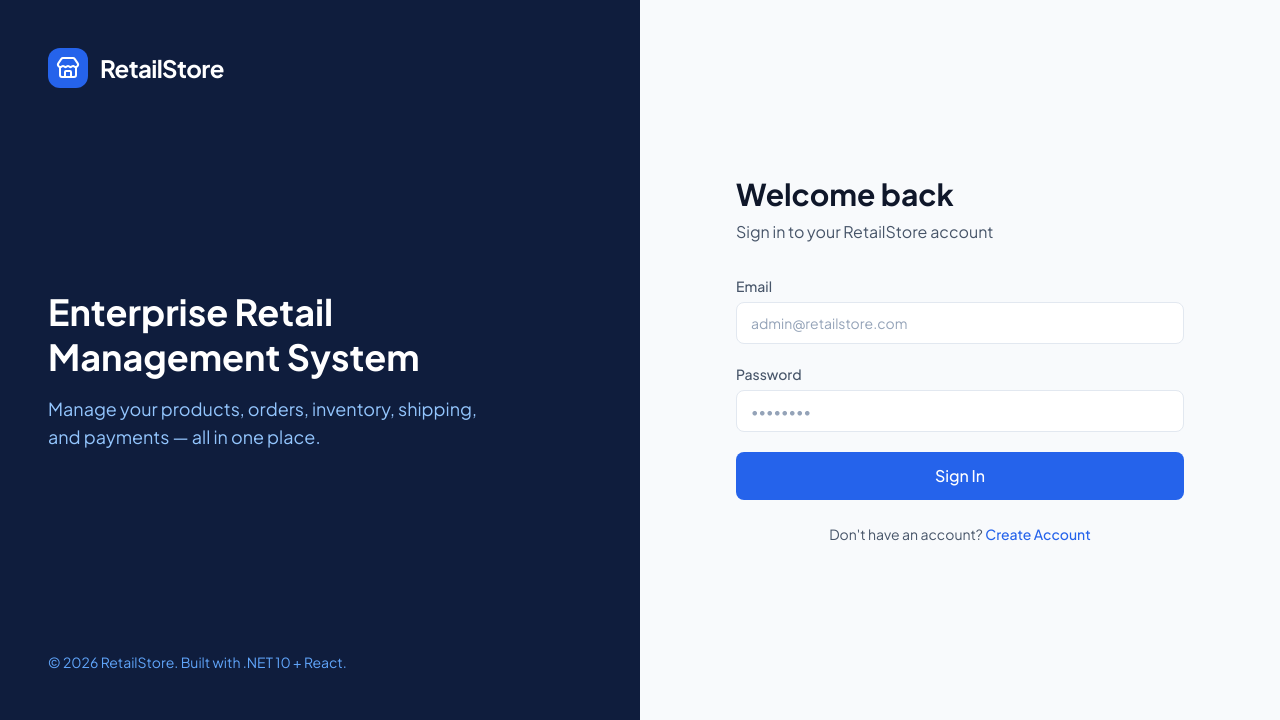
Login workflow › custom server error shows the error message in an alert
Type "testuser@example.com" into the field.
click(960, 323); type("testuser@example.com")  # box [736, 302, 1184, 344]
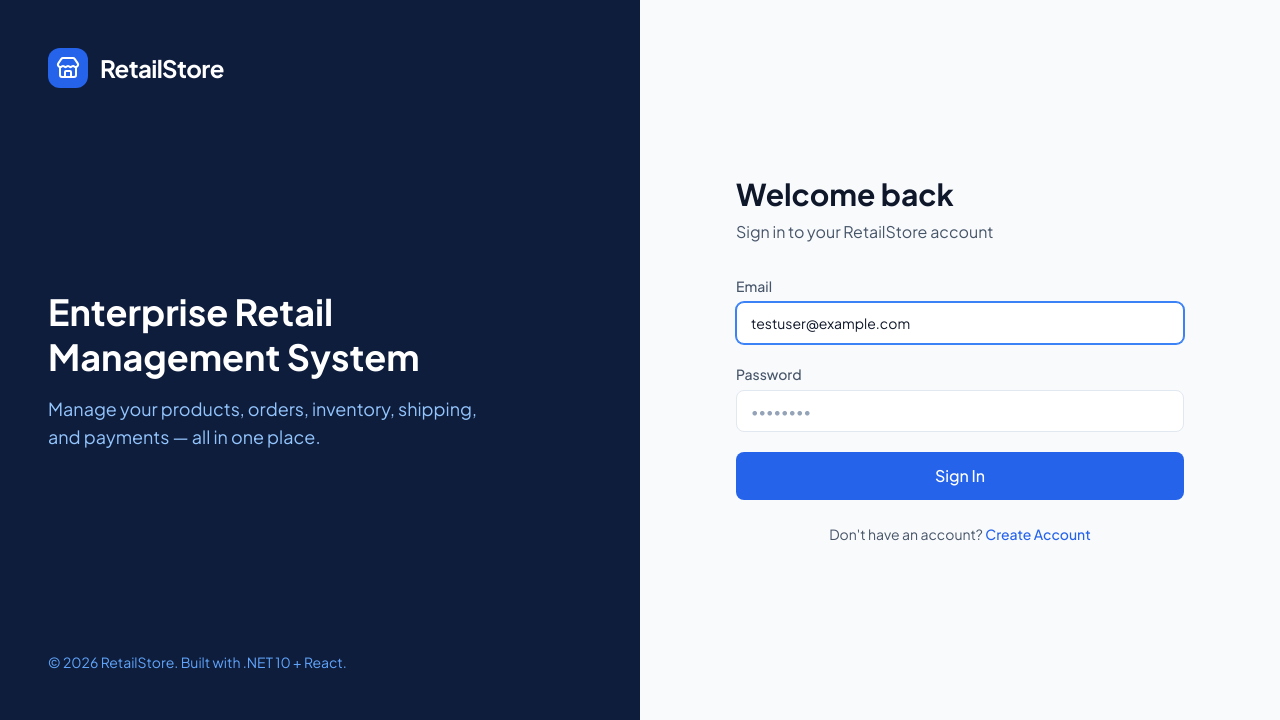
Type "Password123!" into the password field labelled "Password".
click(960, 411); type("Password123!")  # box [736, 390, 1184, 432]
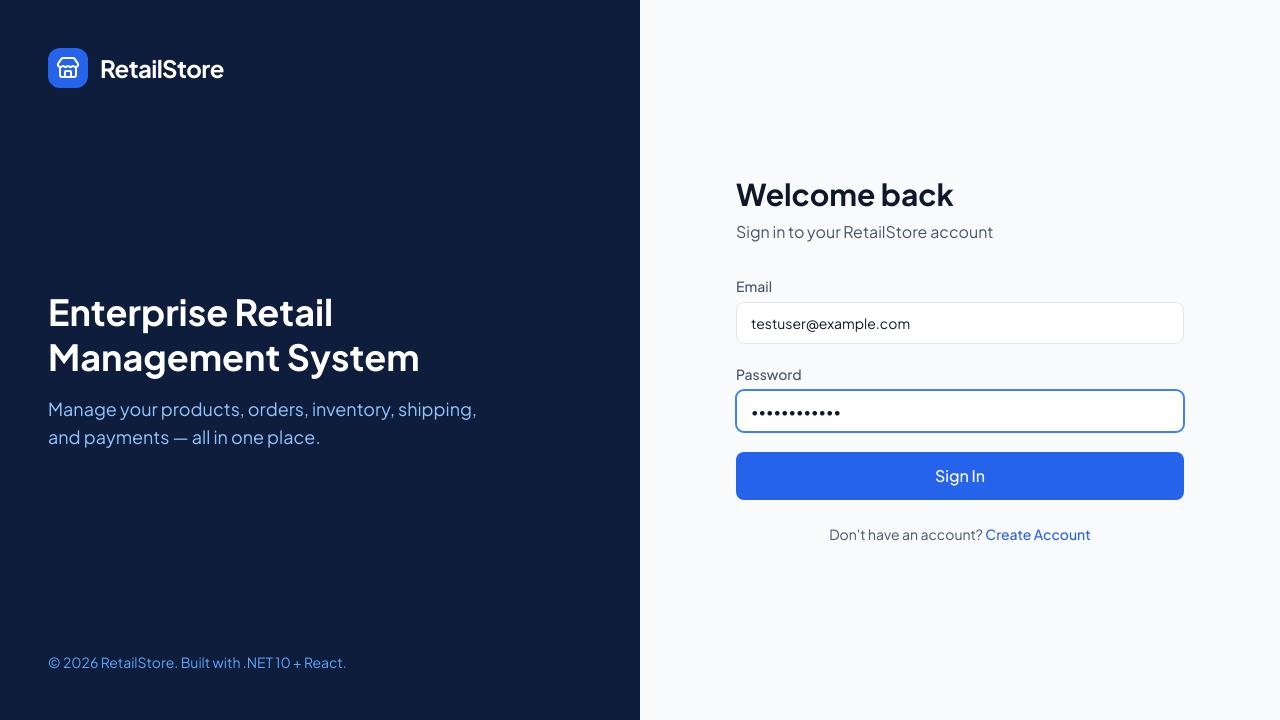
Click the button "Sign In".
click(960, 476)  # box [736, 452, 1184, 500]
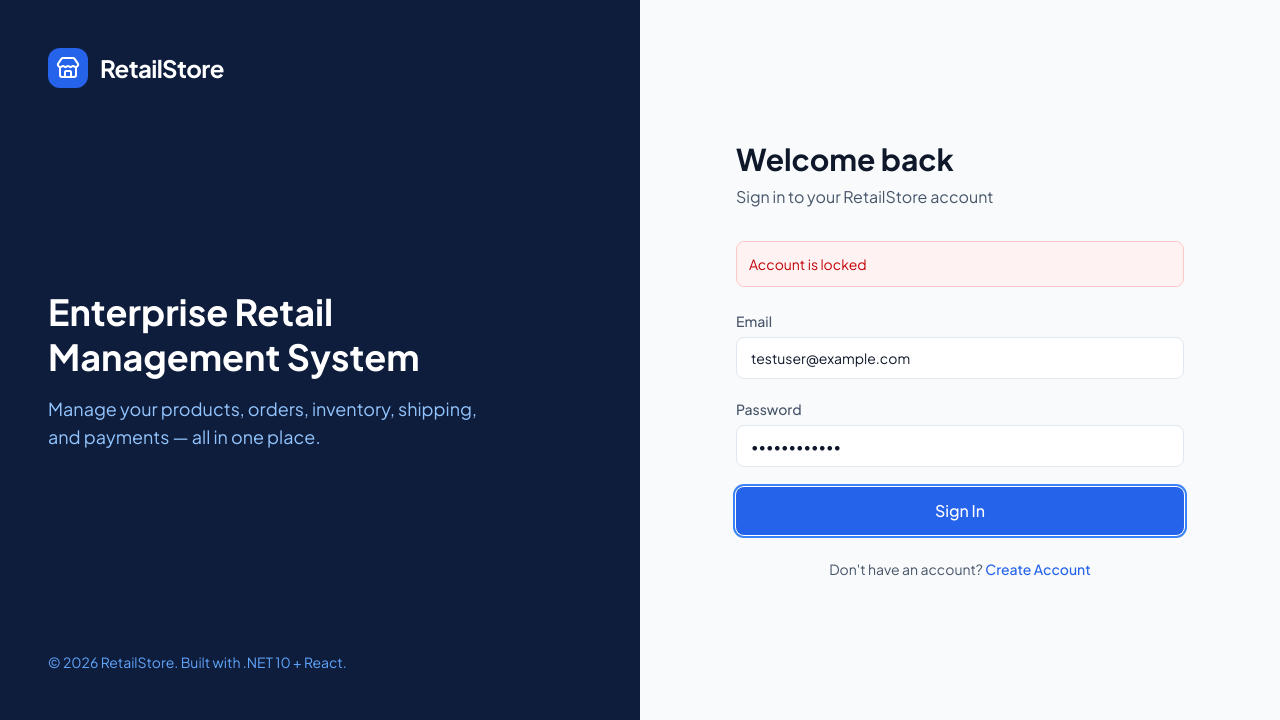
Now the text "Account is locked" is shown, box [749, 255, 867, 273]
